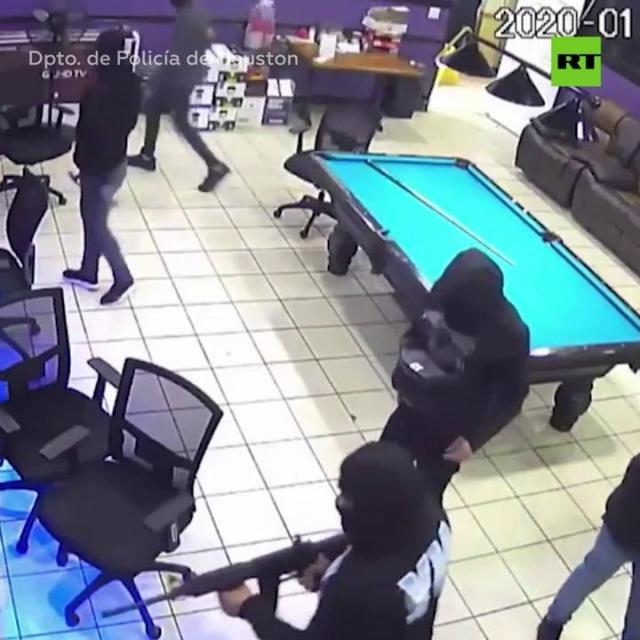weapon: (94, 532, 343, 640)
